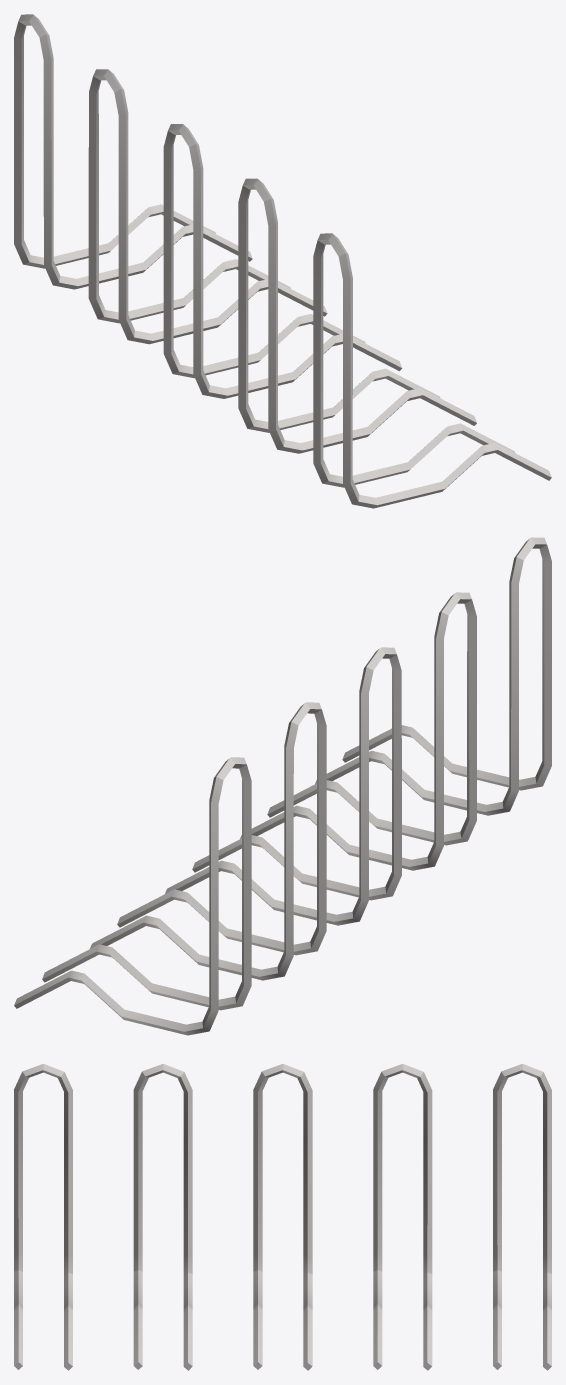
Rendered from SM_bikestand.fbx.
3 renders of one model, top to bottom at view 1: azimuth 30°, elevation 25°; view 2: azimuth 150°, elevation 25°; view 3: azimuth 270°, elevation 25°, orthographic. The views are drawn at different scales.
Visible parts, largest first — view 1: Line029; view 2: Line029; view 3: Line029.
Part boxes in pixels (bbox=[...]): Line029: bbox=[14, 14, 551, 508]; Line029: bbox=[14, 537, 551, 1035]; Line029: bbox=[14, 1064, 551, 1370].
Size of the model in its own units: 30.59 by 86.36 by 40.68.
